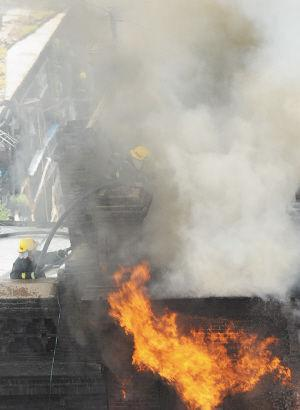fire: (111, 274, 285, 402)
smoke: (55, 7, 300, 269)
